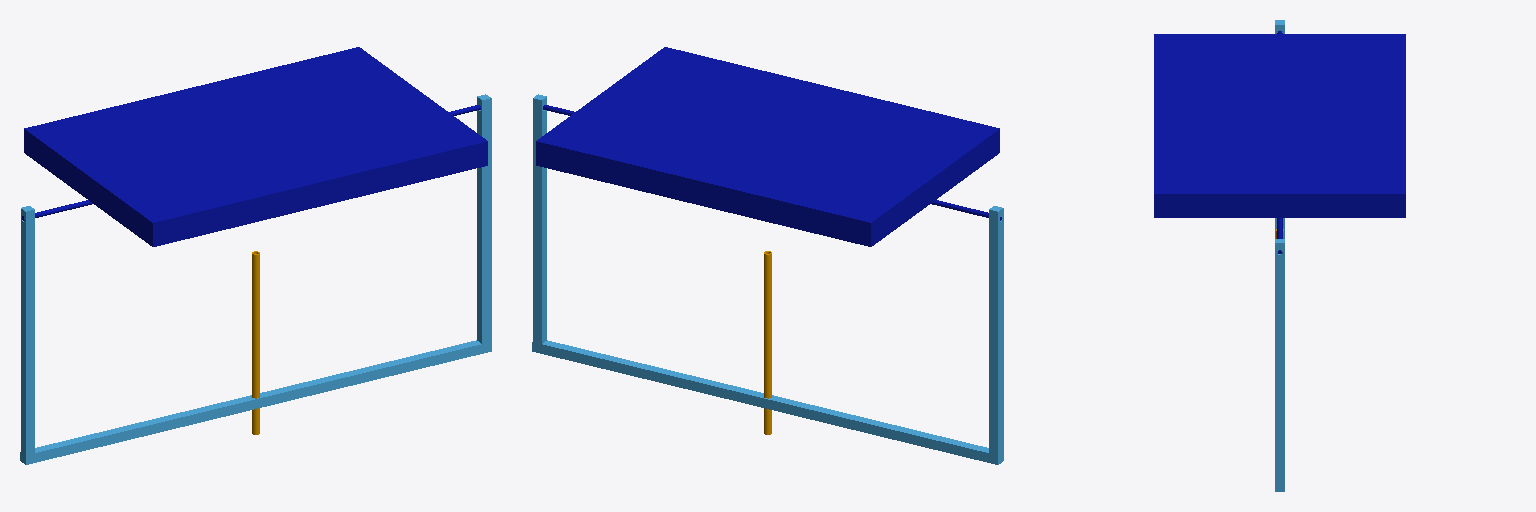
robot.urdf — Panel:
<?xml version='1.0'?>

<robot name="Panel">
    <!--Eslabones-->
        <!--Base del robot-->
            <link name="base_link">
                <visual>
                    <geometry>
                    <mesh filename = "package://panel/src/panel_description/meshes/Base.stl"/>
                    </geometry>
                </visual>
                
                <collision>
                    <geometry>
                    <mesh filename = "package://panel/src/panel_description/meshes/Base.stl"/>
                    </geometry>
                </collision>
          
            </link>

        <!--Eslabón 1: Porteria-->
            <link name="porteria_link">
                <visual>
                    <geometry>
                    <mesh filename = "package://panel/src/panel_description/meshes/Porteria.stl"/>
                    </geometry>
                </visual>
                
                <collision>
                    <geometry>
                    <mesh filename = "package://panel/src/panel_description/meshes/Porteria.stl"/>
                    </geometry>
                </collision>
            </link>


        <!--Eslabón 2: Panel-->
            <link name="panel_link">
                <visual>
                    <geometry>
                    <mesh filename = "package://panel/src/panel_description/meshes/Panel.dae"/>
                    </geometry>
                </visual>
                
                <collision>
                    <geometry>
                    <mesh filename = "package://panel/src/panel_description/meshes/Panel.dae"/>
                    </geometry>
                </collision>
            </link>

    <!--Uniones del robot-->

    <!--Union 1-->
     <joint name = "J1" type = "continuous">
      <parent link = "base_link"/>
      <child link = "porteria_link"/>
      <origin xyz = "0 0 0.0175" rpy = "0 0 0"/>
      <axis xyz ="0 0 1" />
     </joint>

    <!--Union 2-->
    <joint name = "J2" type = "continuous">
      <parent link = "porteria_link"/>
      <child link = "panel_link"/>  
      <origin xyz ="0 0 0.2625" rpy = "0 0 0"/>
      <axis xyz = "1 0 0"/>
    </joint>


    

</robot>

--- Facts derived from the render (not from the file) ---
Views: 3 orthographic renders of the robot side by side, from view 1: azimuth 30°, elevation 25°; view 2: azimuth 150°, elevation 25°; view 3: azimuth 270°, elevation 25°.
Model Panel with 3 links and 2 joints (2 continuous), rooted at base_link, posed every joint at zero.
Visible links, largest first — view 1: panel_link, porteria_link, base_link; view 2: panel_link, porteria_link, base_link; view 3: panel_link, porteria_link.
Link boxes in pixels (x1,y1,x2,y2): panel_link: (22, 47, 487, 246); porteria_link: (20, 94, 491, 464); base_link: (252, 251, 259, 434); panel_link: (536, 47, 1001, 246); porteria_link: (532, 94, 1003, 464); base_link: (764, 251, 771, 434); panel_link: (1154, 31, 1405, 253); porteria_link: (1275, 20, 1284, 491).
Size in the robot's own frame: 0.5 by 0.24 by 0.3062 metres.
3 mesh visuals loaded from 3 distinct referenced files (2 binary STL, 1 Collada DAE).
